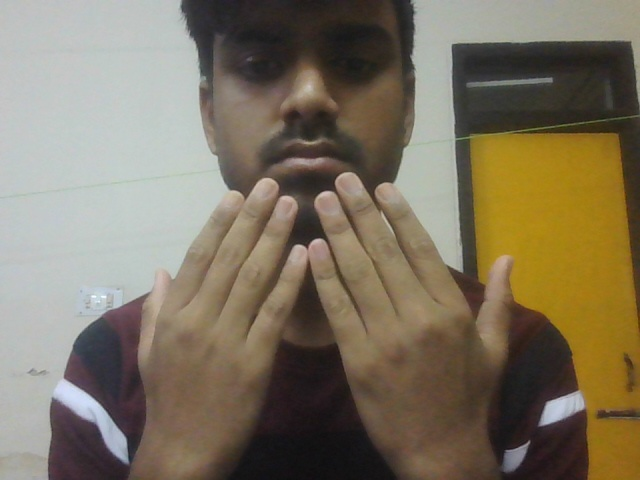thanks: (99, 164, 535, 480)
